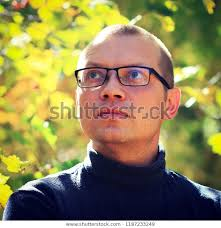Glasses: (67, 65, 171, 97)
